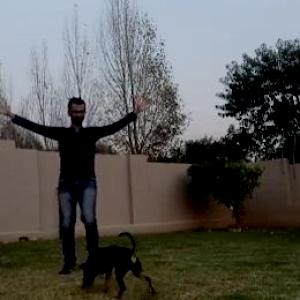takeoff: (1, 82, 156, 287)
